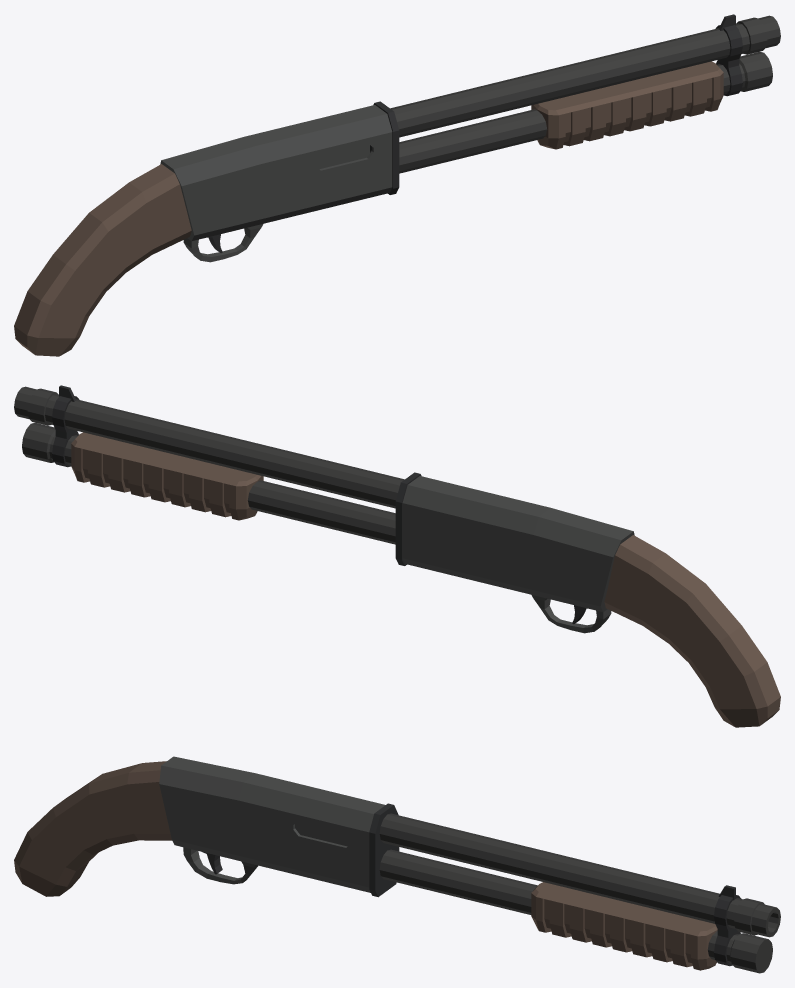
File: Shotgun_ShortStock.glb
3 renders of one model, top to bottom at view 1: azimuth 30°, elevation 25°; view 2: azimuth 150°, elevation 25°; view 3: azimuth 330°, elevation 25°, orthographic.
Parts seen in each view (by area): view 1: Shotgun_ShortStock; view 2: Shotgun_ShortStock; view 3: Shotgun_ShortStock.
Part boxes in pixels (x1=…): Shotgun_ShortStock: x1=14, y1=14, x2=780, y2=356; Shotgun_ShortStock: x1=14, y1=385, x2=780, y2=727; Shotgun_ShortStock: x1=14, y1=756, x2=780, y2=973.
Bounding box in the file's own units: 4.47 × 0.9669 × 0.2465.
